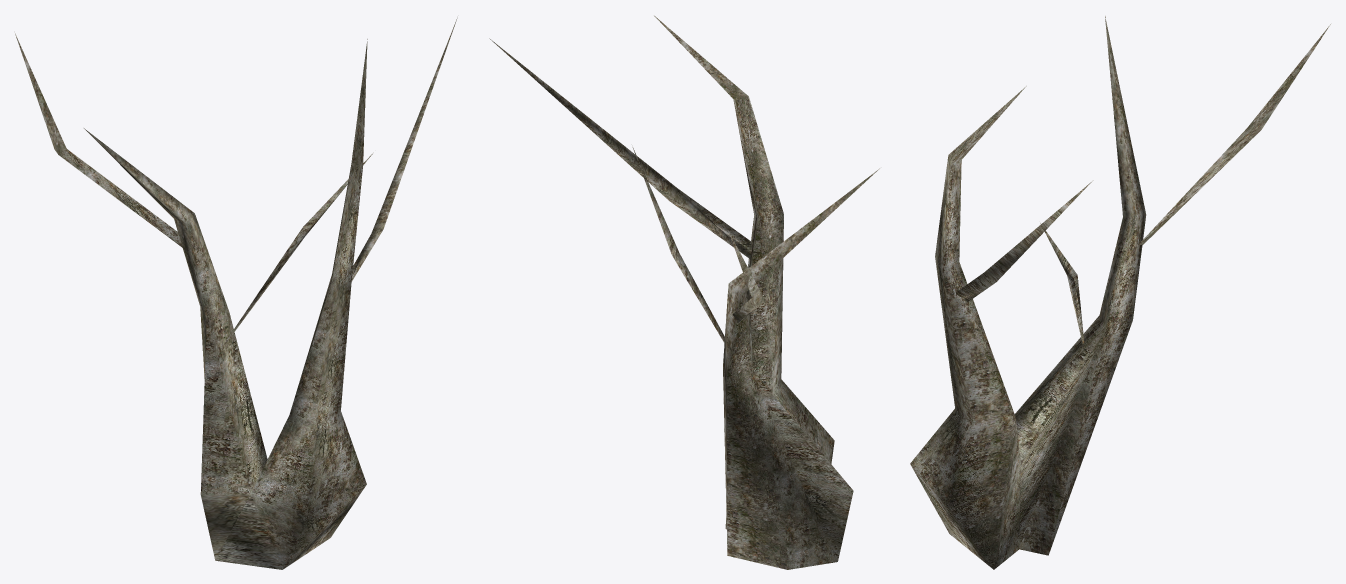
File: poi_lair_web_base_l3.fbx
3 renders of one model, left to right at view 1: azimuth 30°, elevation 25°; view 2: azimuth 150°, elevation 25°; view 3: azimuth 270°, elevation 25°, orthographic. The views are drawn at different scales.
Parts seen in each view (by area): view 1: mesh_node; view 2: mesh_node; view 3: mesh_node.
Boxes of the visible parts, x1,y1,x2,y2 form: mesh_node: (15, 17, 457, 569); mesh_node: (489, 15, 879, 569); mesh_node: (910, 16, 1330, 569).
Bounding box in the file's own units: 3.65 × 4.48 × 3.34.
Materials: 1 (1 with a texture image).
